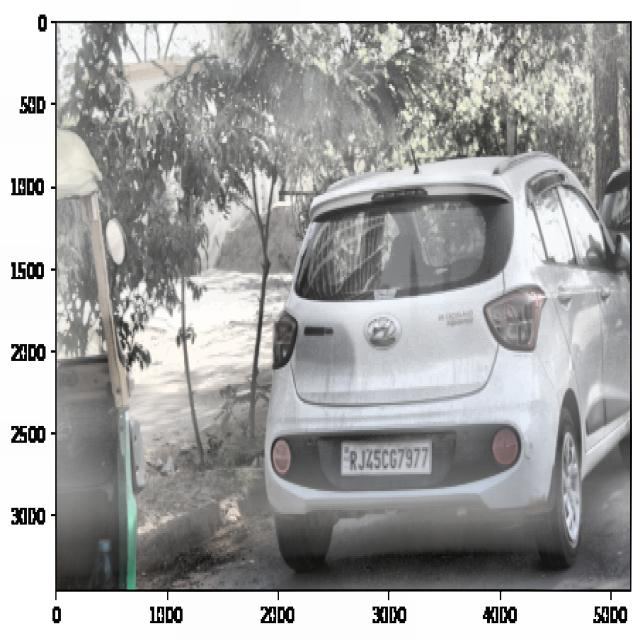license_plate: (340, 438, 432, 478)
